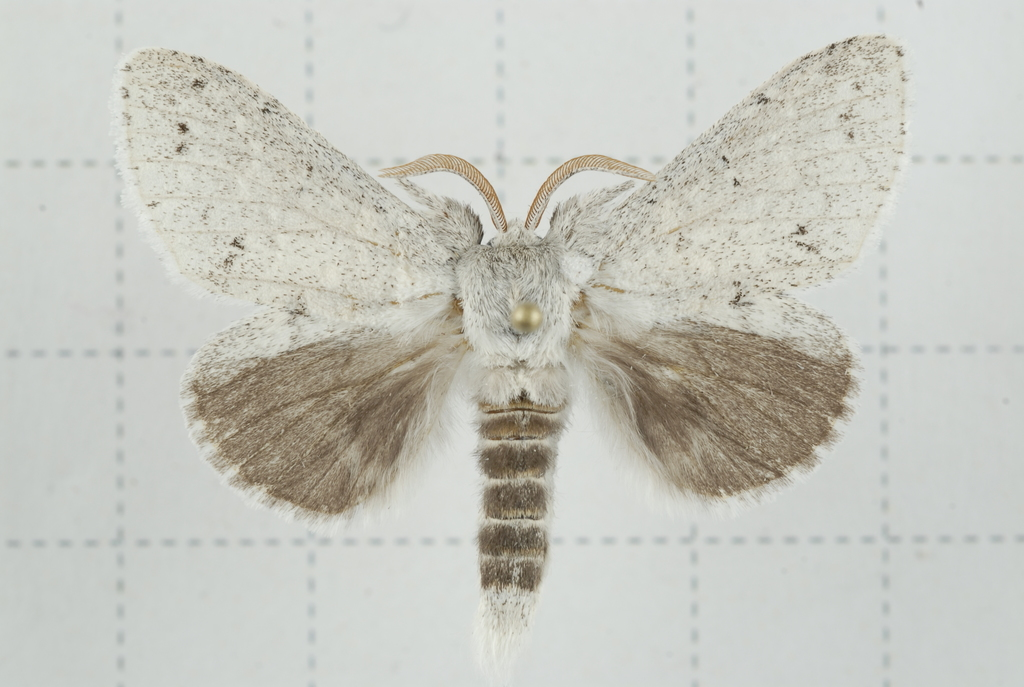Butterfly: (109, 25, 922, 666)
